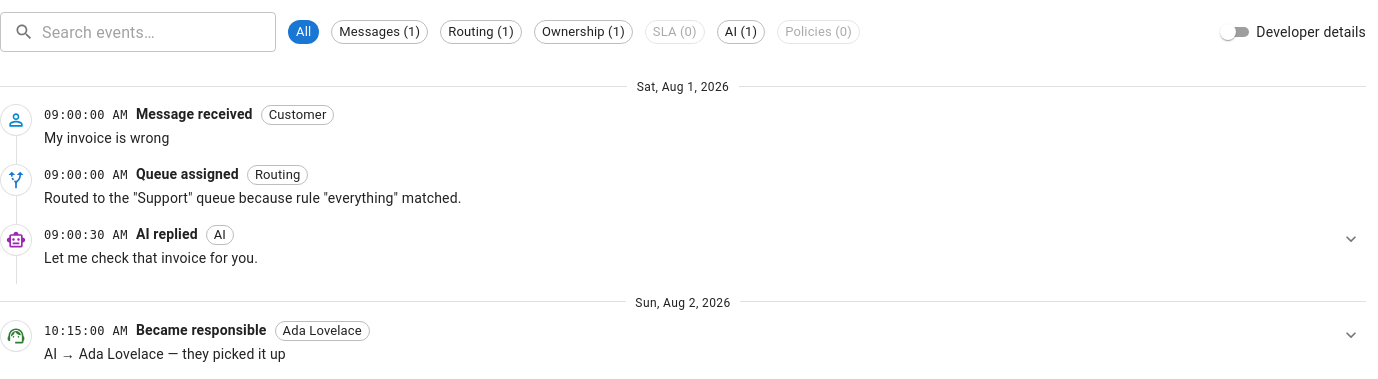
ConversationTimeline › filters by where the event came from, and says how many there are
Click the button "Ownership (1)" at (583, 32), box x1=534 y1=20 x2=633 y2=44
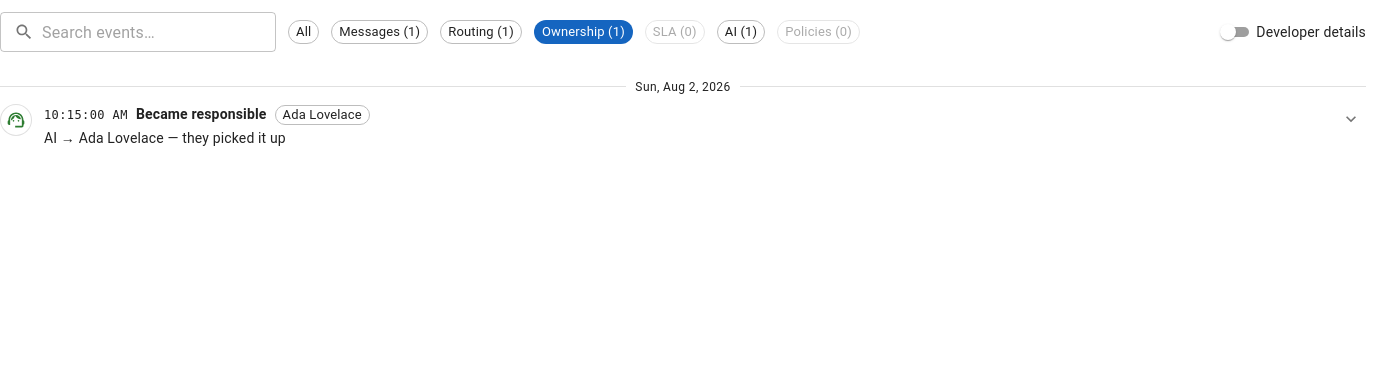
Expected: the text "Became responsible" is shown, x1=136 y1=104 x2=267 y2=124
Now the text "AI replied" is gone
